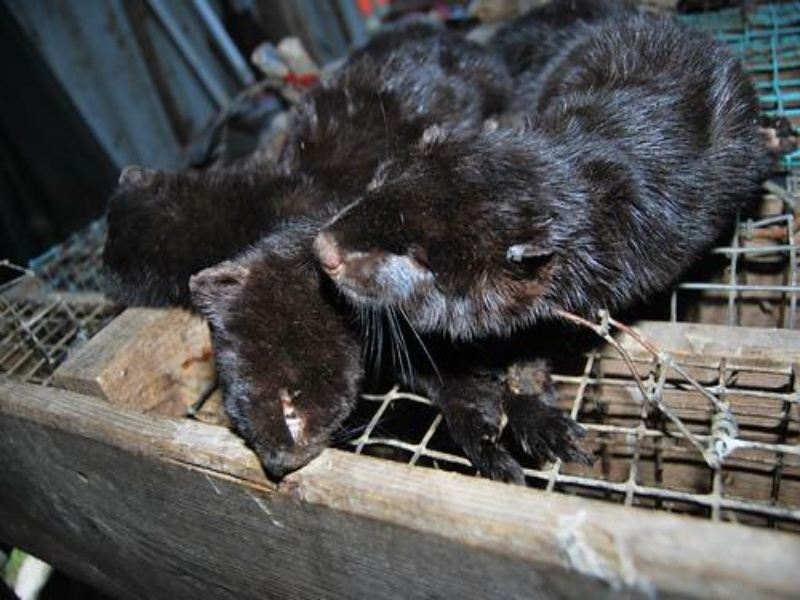minkish: (191, 1, 584, 485), (313, 11, 800, 339)
